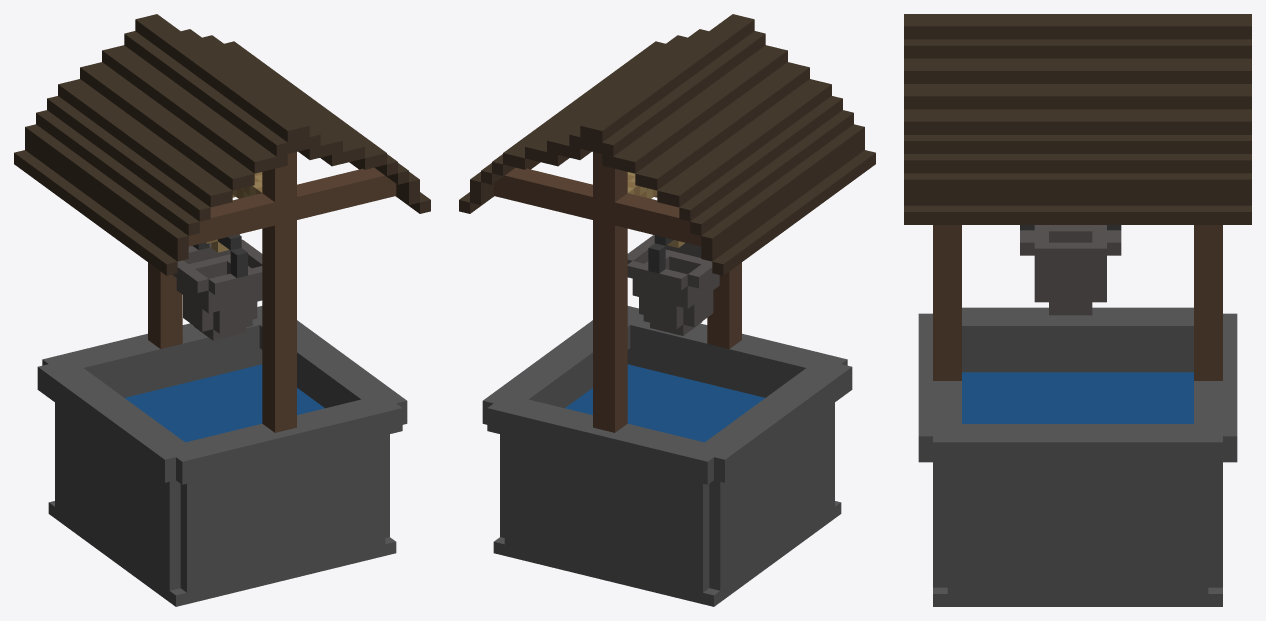
Rendered from Poço.obj.
3 renders of one model, left to right at view 1: azimuth 30°, elevation 25°; view 2: azimuth 150°, elevation 25°; view 3: azimuth 270°, elevation 25°, orthographic. The views are drawn at different scales.
Bounding box in the file's own units: 2.4 × 4 × 2.4.
Materials: 1 (1 with a texture image).
